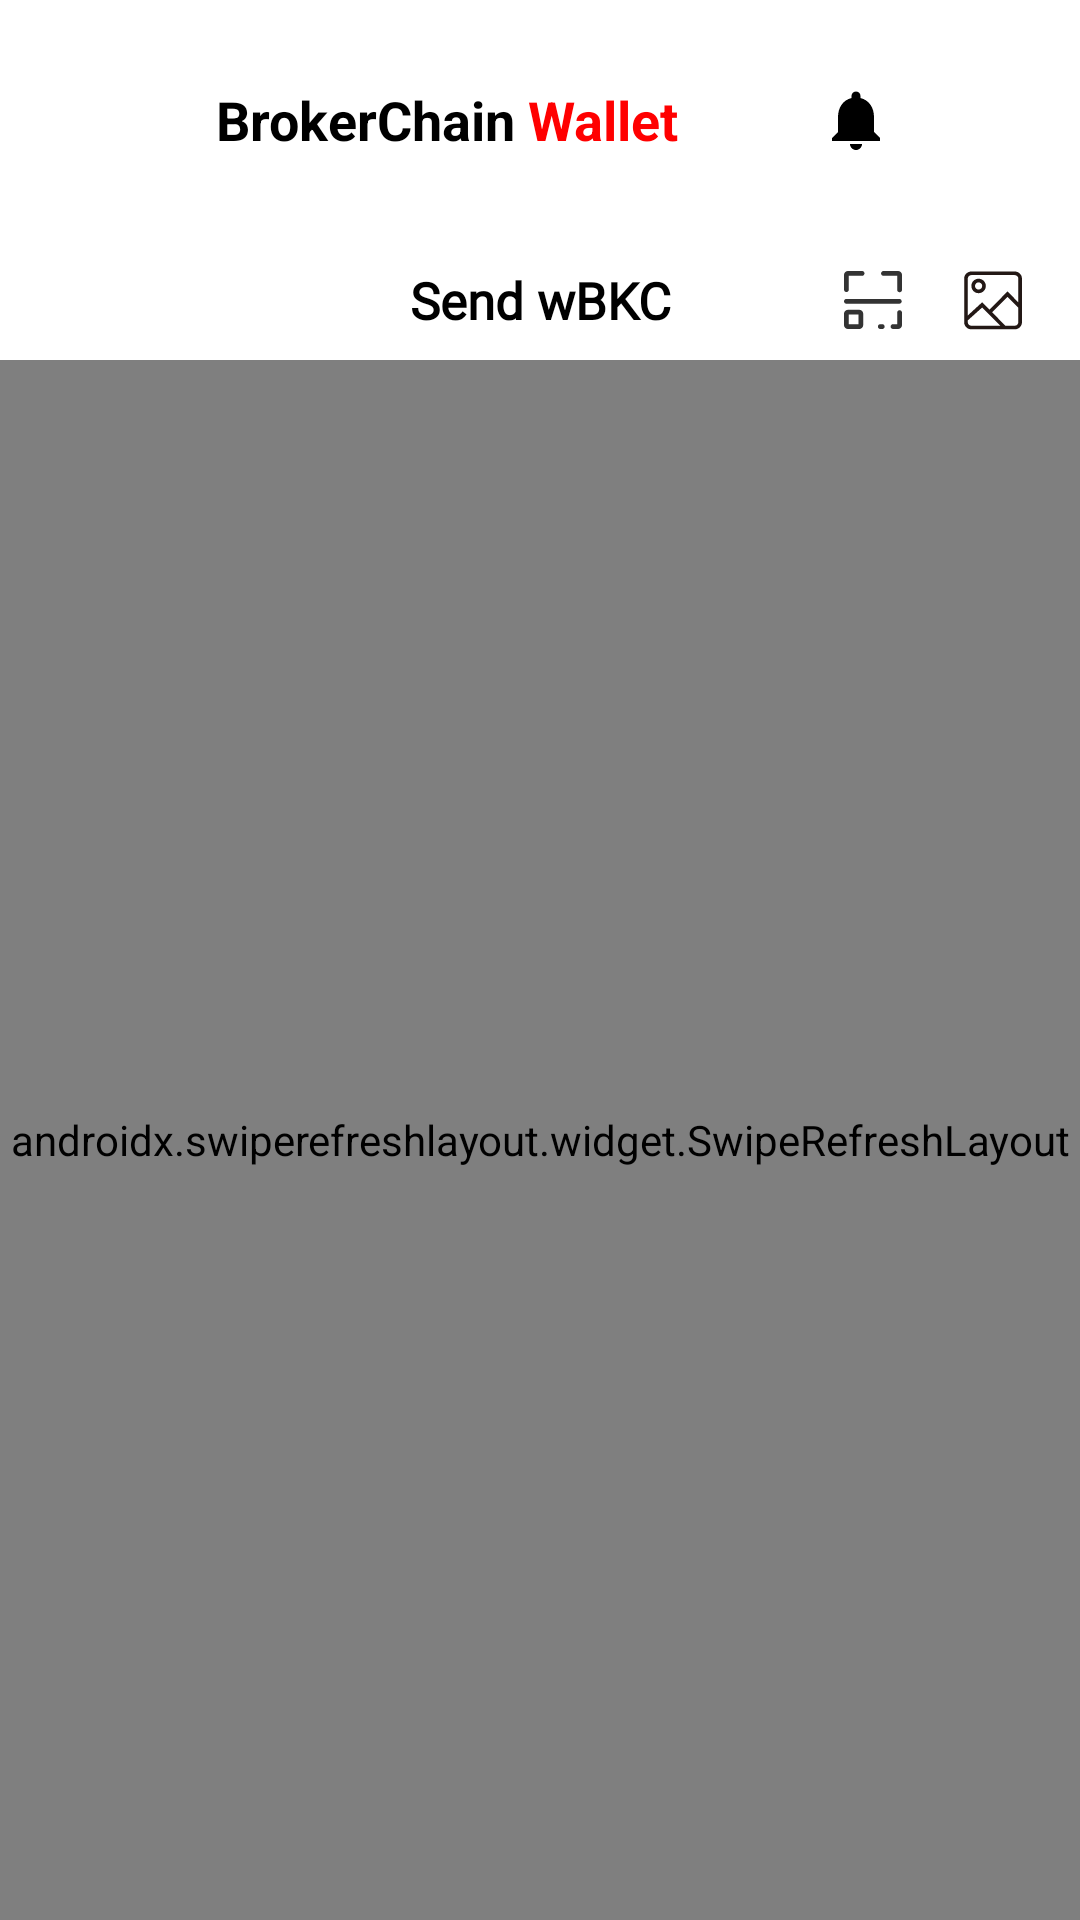

Screen size 1080 × 1920. Icon name, then its box in pixels as (x1, y1, x2, y2):
Notifications: (832, 91, 880, 150)
Scan from gallery: (964, 271, 1022, 330)
Scan QR code: (844, 271, 902, 329)
